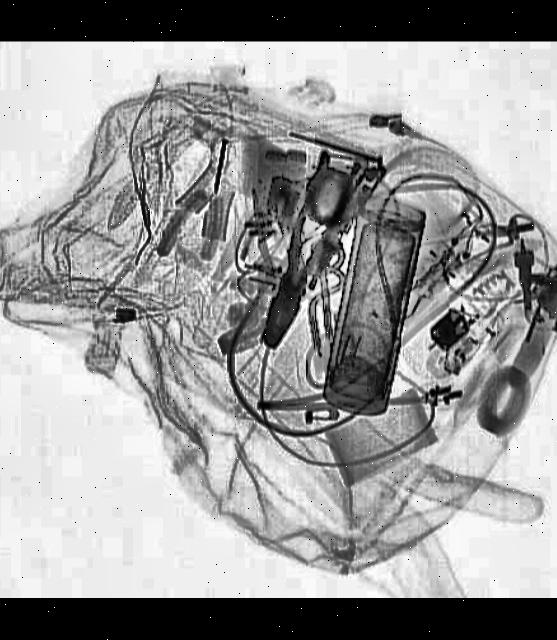Pliers: (243, 152, 360, 358)
